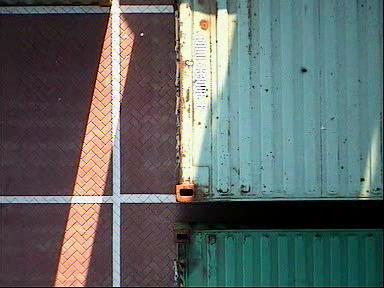groundmarker_2: (197, 148, 235, 221)
